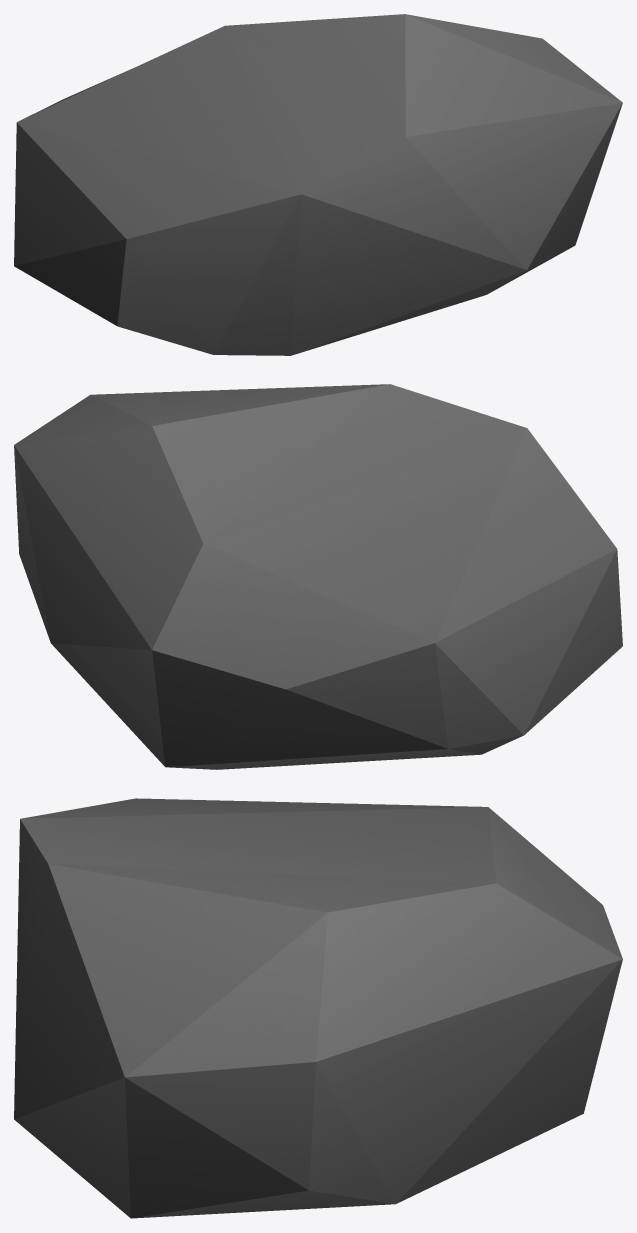
File: Jungle_Rock_Large_A.fbx
The picture shows the model from 3 angles, top to bottom: view 1: azimuth 30°, elevation 25°; view 2: azimuth 150°, elevation 25°; view 3: azimuth 270°, elevation 25°; orthographic projection. The views are drawn at different scales.
Visible parts, largest first — view 1: Jungle_Rock_Large_A; view 2: Jungle_Rock_Large_A; view 3: Jungle_Rock_Large_A.
Boxes of the visible parts, x1,y1,x2,y2 form: Jungle_Rock_Large_A: [14, 14, 622, 355]; Jungle_Rock_Large_A: [14, 384, 622, 769]; Jungle_Rock_Large_A: [14, 798, 622, 1218].
Size of the model in its own units: 3.09 by 1.47 by 2.55.
Materials: 1 (1 with a texture image).
